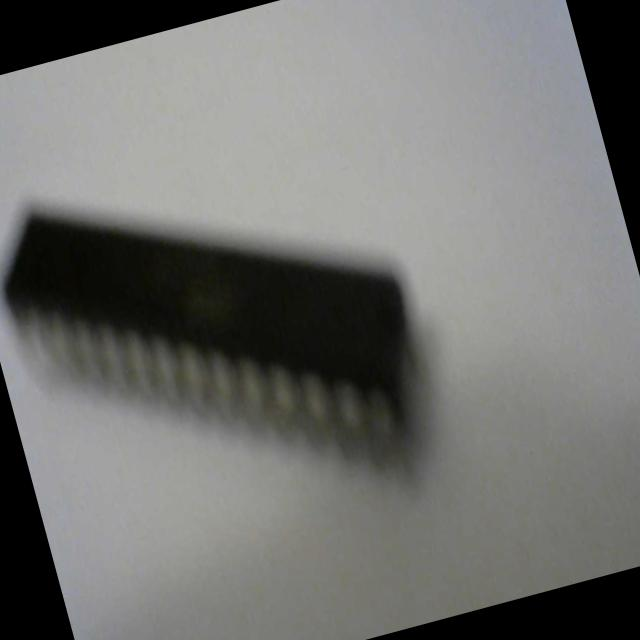atmega: (0, 107, 450, 562)
